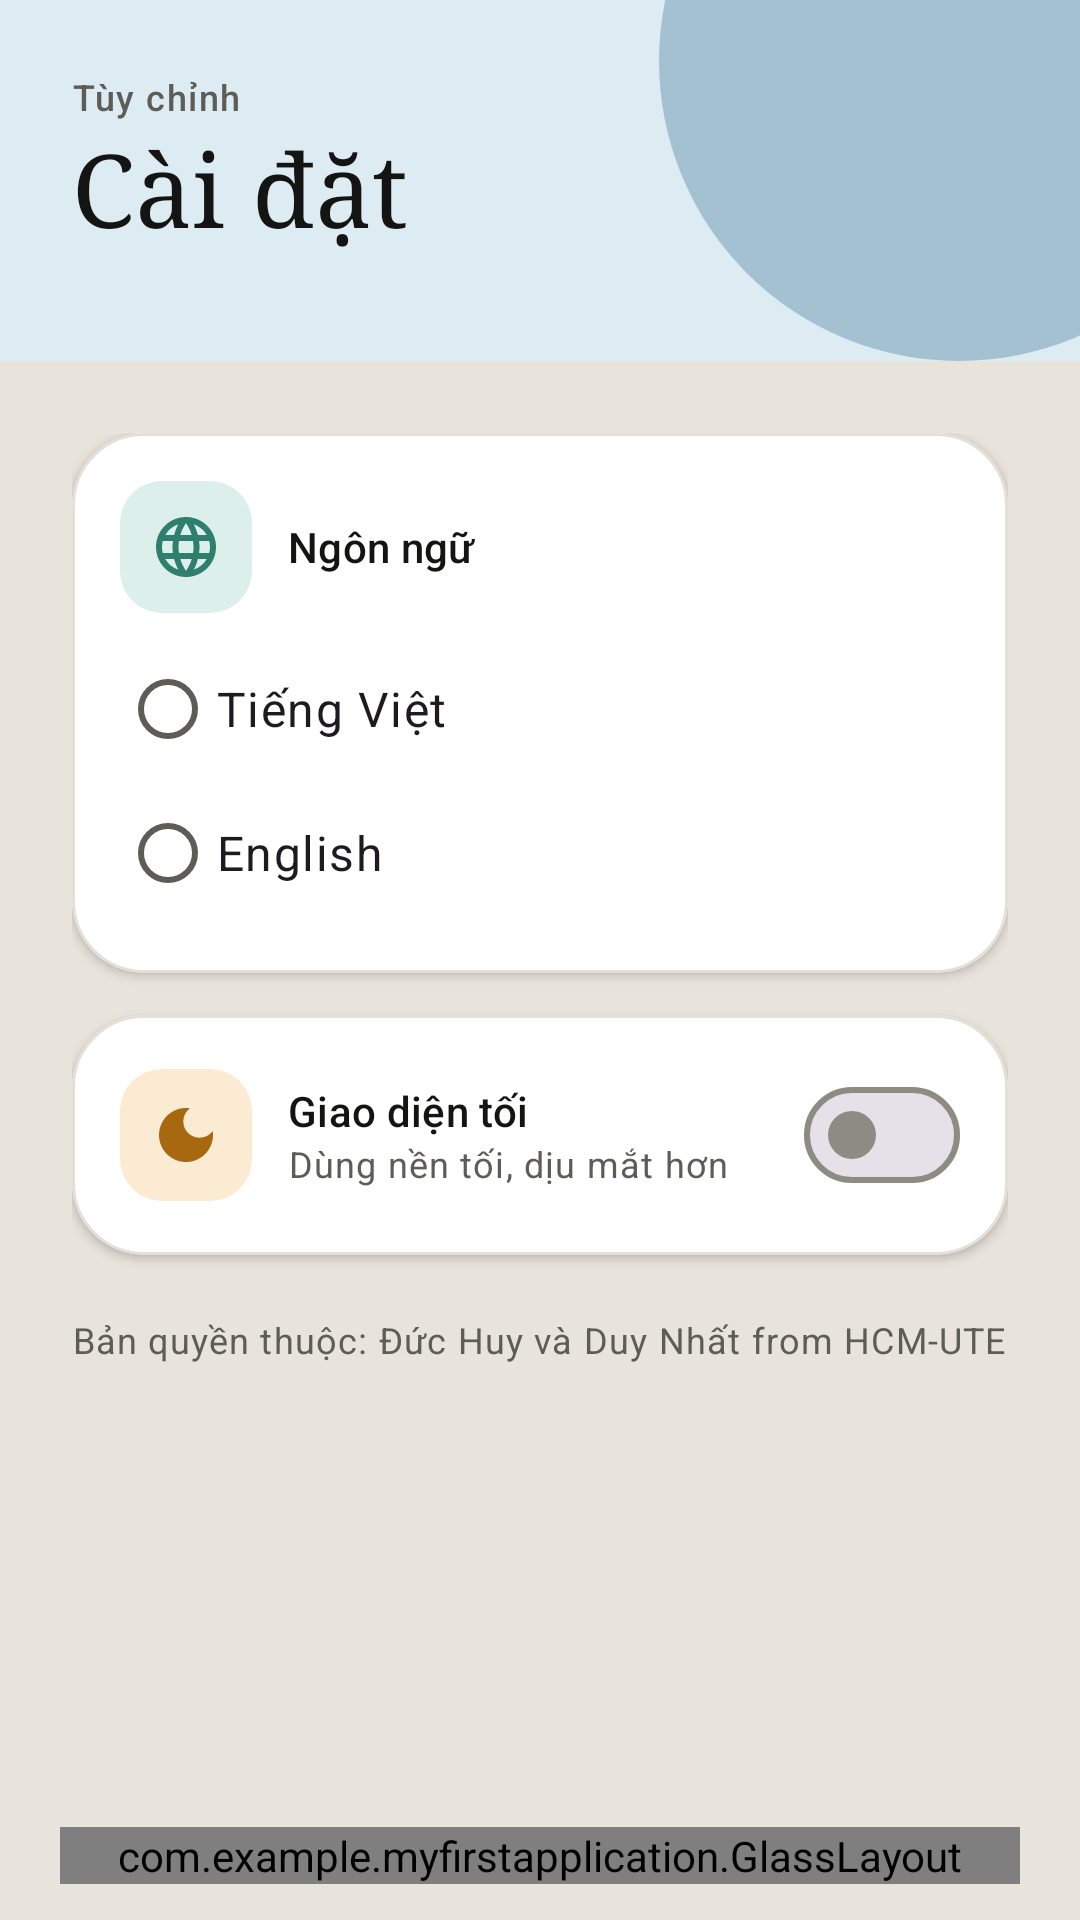

Icons on this 1080x1920 Android screen, each with its box as bbox=(x1, y1, x2, y2):
language: bbox=(120, 481, 252, 613)
mode: bbox=(120, 1069, 252, 1201)
